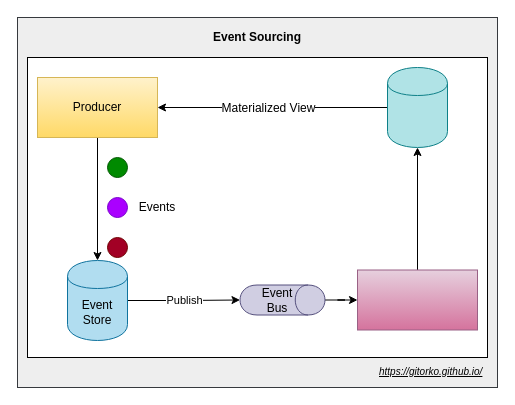
Some shapes in this 515 by 405 pixel diagram are drawn without their labels. The centre of each missing label's shape, as x and y in pixels:
"Consumer" goes at (417,299).
"DB" goes at (417,107).
